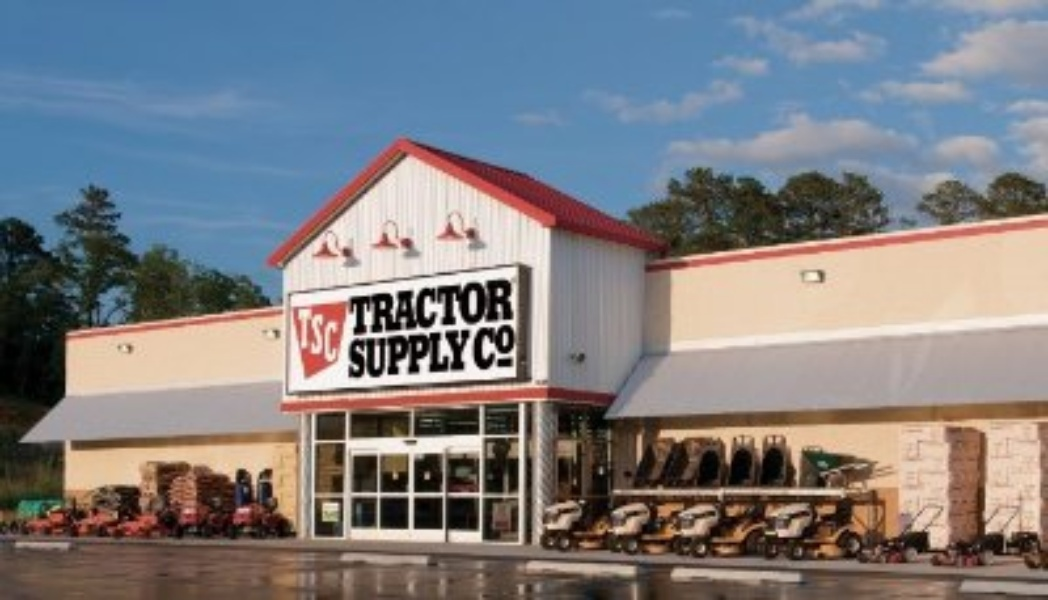text: (305, 304, 320, 367), (321, 304, 336, 367), (353, 278, 368, 336), (369, 278, 384, 336), (385, 278, 400, 336), (401, 278, 416, 336), (417, 278, 432, 336), (433, 278, 448, 336), (449, 278, 464, 336), (465, 278, 480, 336), (481, 278, 496, 336), (497, 278, 512, 336), (353, 328, 368, 380), (369, 328, 384, 380), (385, 328, 400, 380), (401, 328, 416, 380), (417, 328, 432, 380), (433, 328, 448, 380), (449, 328, 464, 380), (481, 323, 496, 373), (497, 323, 512, 373), (294, 304, 304, 367), (472, 323, 480, 373), (465, 328, 472, 380), (346, 278, 352, 336), (513, 323, 519, 373), (337, 304, 341, 367), (349, 328, 352, 380), (513, 278, 514, 336)
